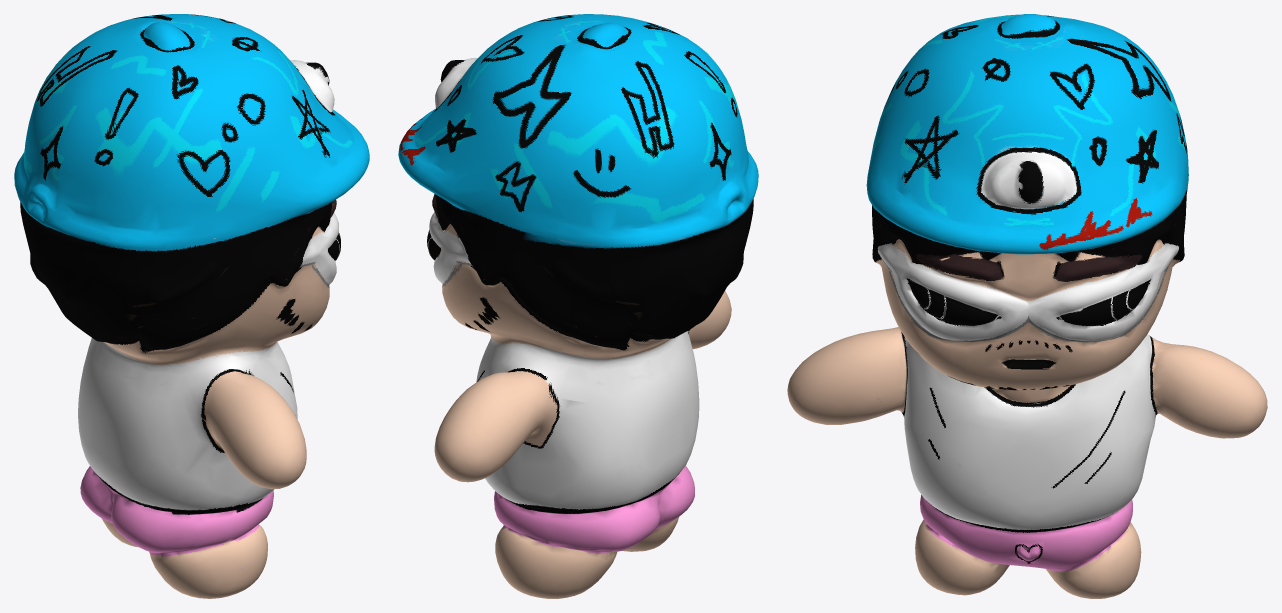
The model's file is peluche.glb.
3 renders of one model, left to right at view 1: azimuth 30°, elevation 25°; view 2: azimuth 150°, elevation 25°; view 3: azimuth 270°, elevation 25°, orthographic. The views are drawn at different scales.
Parts seen in each view (by area): view 1: PELUCHE:LOWTOPO-MATERIAL1; view 2: PELUCHE:LOWTOPO-MATERIAL1; view 3: PELUCHE:LOWTOPO-MATERIAL1.
Boxes of the visible parts, <box> form: PELUCHE:LOWTOPO-MATERIAL1: <box>14,14,369,598</box>; PELUCHE:LOWTOPO-MATERIAL1: <box>398,14,758,598</box>; PELUCHE:LOWTOPO-MATERIAL1: <box>787,14,1267,598</box>.
Size of the model in its own units: 0.594 by 0.9888 by 0.7694.
1 material, 1 textured.
